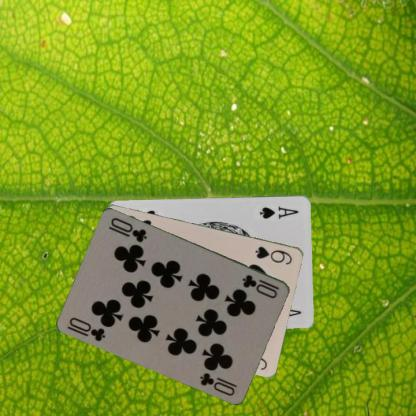10c: (64, 314, 107, 343), (240, 271, 281, 300)
6s: (253, 243, 294, 266)
As: (257, 202, 299, 219)
